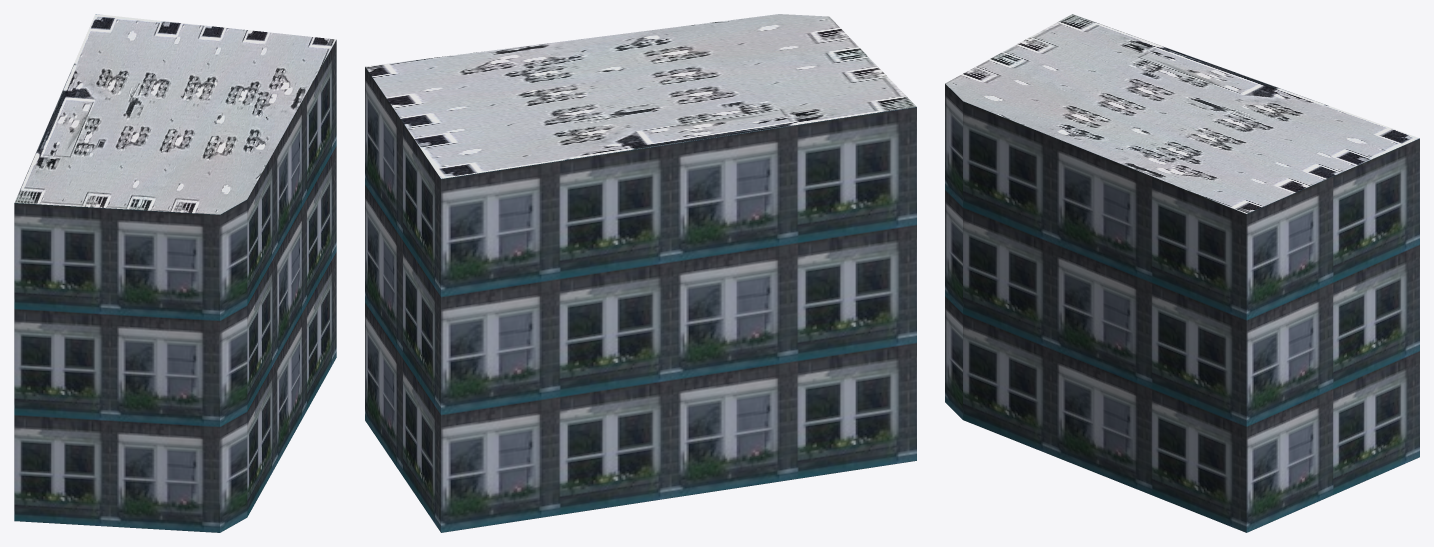
Rendered from ResTex__3171.fbx.
3 views of the same model, side by side, from view 1: azimuth 30°, elevation 25°; view 2: azimuth 150°, elevation 25°; view 3: azimuth 270°, elevation 25° (orthographic). The views are drawn at different scales.
Visible parts, largest first — view 1: CityEngineMaterial_11_m, CityEngineMaterial_4_m; view 2: CityEngineMaterial_11_m, CityEngineMaterial_4_m; view 3: CityEngineMaterial_11_m, CityEngineMaterial_4_m.
Boxes of the visible parts, left/top/right/bottom form: CityEngineMaterial_11_m: left=14, top=40, right=336, bottom=532; CityEngineMaterial_4_m: left=14, top=14, right=336, bottom=214; CityEngineMaterial_11_m: left=365, top=67, right=916, bottom=532; CityEngineMaterial_4_m: left=365, top=14, right=916, bottom=178; CityEngineMaterial_11_m: left=945, top=84, right=1419, bottom=532; CityEngineMaterial_4_m: left=945, top=14, right=1419, bottom=213.
Bounding box in the file's own units: 12.11 × 9 × 12.14.
2 materials, 2 textured.
